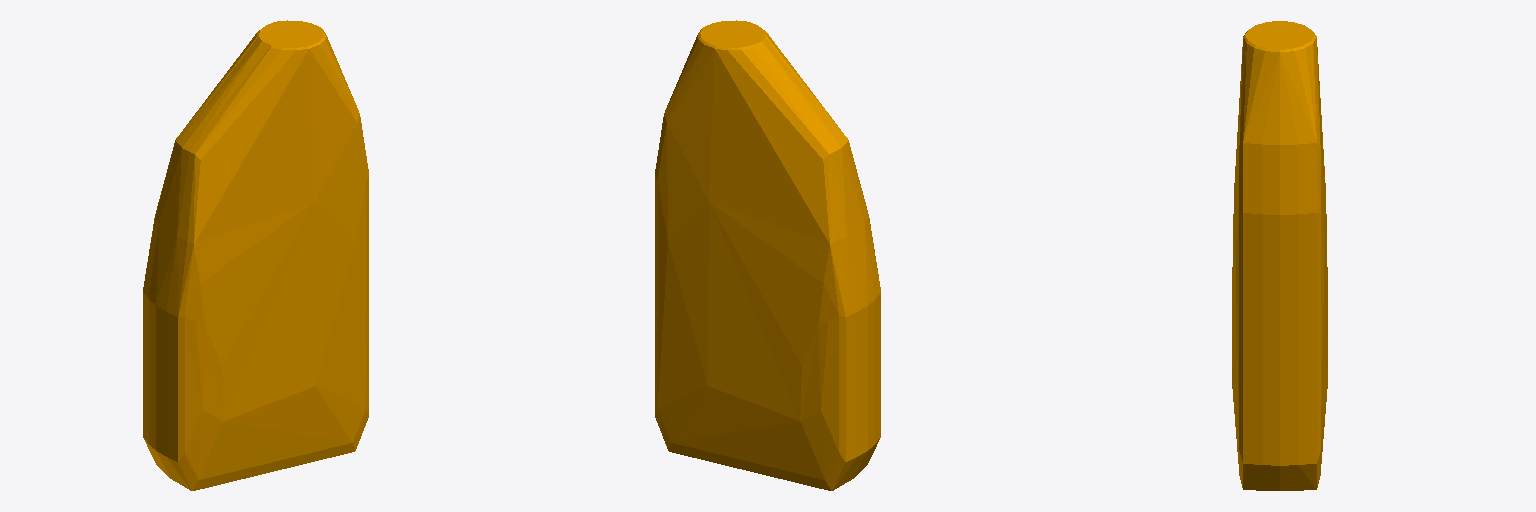
The robot description file, URDF, robot "cascadeConvex.off":
<?xml version="1.0"?>
<robot name="cascadeConvex.off">
	<link name="cascadeConvex.off">
		<inertial>
			<!--origin xyz="0 0 0" rpy="0 0 0" /-->
			<mass value="0.5" />
			<!--inertia ixx="0.000360" ixy="0" ixz="0" iyy="0.0000615" iyz="0" izz="0.00036" /-->
		</inertial>
    		<visual>
	      		<!--origin rpy="0 0 0" xyz="0 0 0"/-->
      			<geometry>
        			<mesh filename="cascadeConvex.off.obj"/>
      			</geometry>
         	</visual>
    		<collision>
      			<!--origin rpy="0 0 0" xyz="0 0 0"/-->
      			<geometry>
        			<mesh filename="cascadeConvex.off.obj"/>
      			</geometry>
    		</collision>
	</link>
</robot>

--- Render facts (derived) ---
3 views of the same robot in one strip: view 1: azimuth 30°, elevation 25°; view 2: azimuth 150°, elevation 25°; view 3: azimuth 270°, elevation 25° (orthographic).
Robot: cascadeConvex.off — 1 links, 0 joints (none); root link cascadeConvex.off; default pose: every joint at zero.
Links seen in each view (by area): view 1: cascadeConvex.off; view 2: cascadeConvex.off; view 3: cascadeConvex.off.
Boxes of the visible links, x1,y1,x2,y2 form: cascadeConvex.off: (143, 20, 368, 490); cascadeConvex.off: (655, 20, 880, 490); cascadeConvex.off: (1232, 21, 1327, 490).
Bounding box of the posed robot: 0.13 × 0.052 × 0.258 m (x, y, z).
1 mesh visuals loaded from 1 distinct referenced files (1 OBJ).